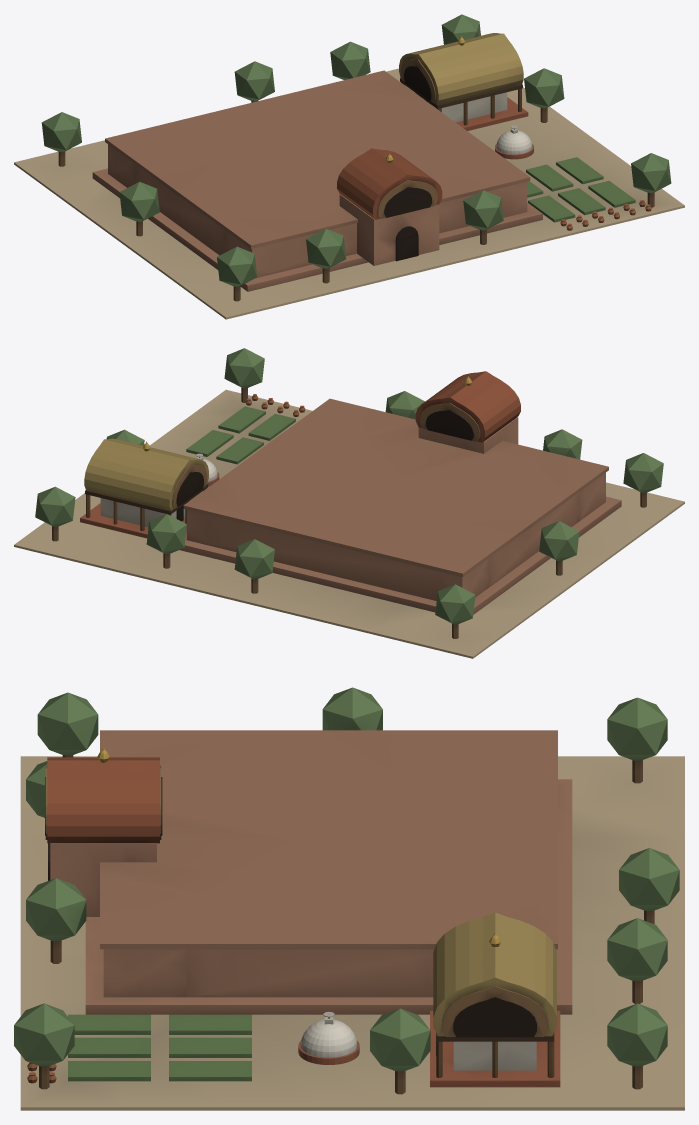
File: arogya-vihara.glb
3 views of the same model, one above another, from view 1: azimuth 30°, elevation 25°; view 2: azimuth 150°, elevation 25°; view 3: azimuth 270°, elevation 25° (orthographic). The views are drawn at different scales.
Visible parts, largest first — view 1: p1_hospital, p0_hospital, p3_trees, p2_court and garden; view 2: p1_hospital, p0_hospital, p2_court and garden, p3_trees; view 3: p1_hospital, p0_hospital, p2_court and garden, p3_trees.
Part boxes in pixels (<box>): p1_hospital: <box>92,70,542,291</box>; p0_hospital: <box>14,68,684,319</box>; p3_trees: <box>41,14,671,301</box>; p2_court and garden: <box>399,33,635,222</box>; p1_hospital: <box>180,371,621,614</box>; p0_hospital: <box>14,389,684,658</box>; p2_court and garden: <box>80,406,295,538</box>; p3_trees: <box>35,348,663,638</box>; p1_hospital: <box>45,730,572,1014</box>; p0_hospital: <box>20,756,684,1110</box>; p2_court and garden: <box>68,912,560,1087</box>; p3_trees: <box>14,687,679,1094</box>.
Bounding box in the file's own units: 70 × 14.73 × 56.55.
